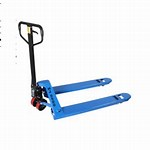Pallet Jack: (17, 20, 132, 120)
